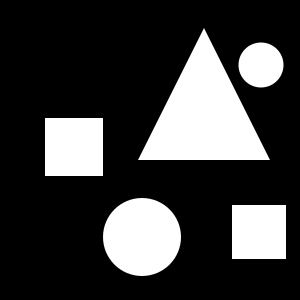circle: (45, 118, 103, 176), (232, 205, 286, 259)
rectangle: (103, 198, 181, 276), (238, 42, 284, 88)
triangle: (138, 28, 270, 160)
